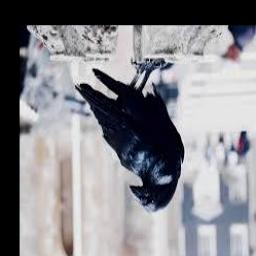Crow: (75, 59, 185, 214)
